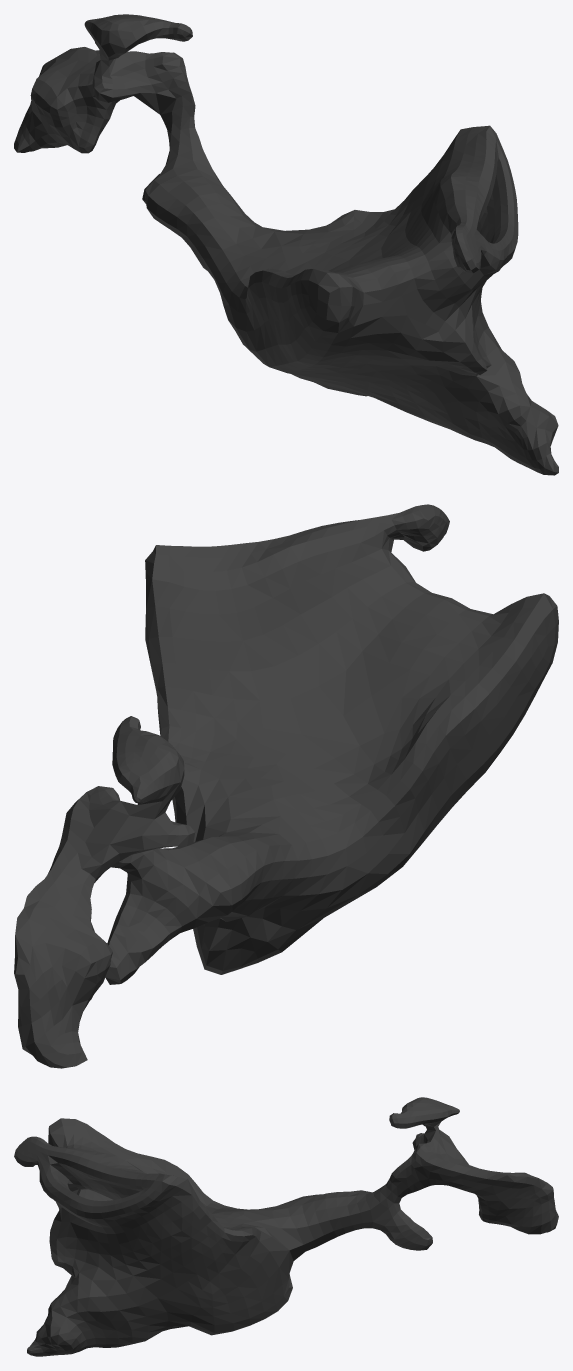
The model's file is L_sphenopalatine_sinus.glb.
The picture shows the model from 3 angles, top to bottom: view 1: azimuth 30°, elevation 25°; view 2: azimuth 150°, elevation 25°; view 3: azimuth 270°, elevation 25°; orthographic projection. The views are drawn at different scales.
Visible parts, largest first — view 1: L_sphenopalatine_sinus; view 2: L_sphenopalatine_sinus; view 3: L_sphenopalatine_sinus.
Boxes of the visible parts, bbox=[...] form: L_sphenopalatine_sinus: bbox=[14, 14, 558, 475]; L_sphenopalatine_sinus: bbox=[14, 504, 558, 1068]; L_sphenopalatine_sinus: bbox=[14, 1097, 558, 1356].
Size of the model in its own units: 31.73 by 35.03 by 84.05.
1 material, 1 textured.
